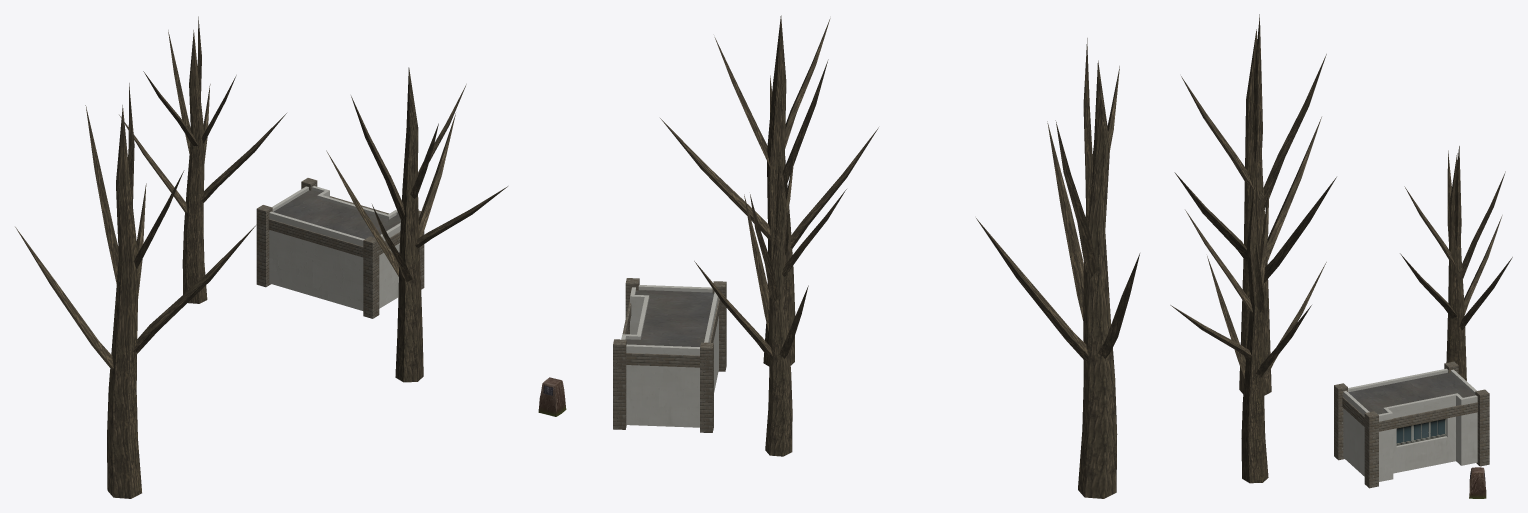
File: fbx_school01_gate.FBX
3 renders of one model, left to right at view 1: azimuth 30°, elevation 25°; view 2: azimuth 150°, elevation 25°; view 3: azimuth 270°, elevation 25°, orthographic. The views are drawn at different scales.
Parts seen in each view (by area): view 1: fbx_school01_gate; view 2: fbx_school01_gate; view 3: fbx_school01_gate.
Part boxes in pixels (bbox=[...]): fbx_school01_gate: bbox=[15, 16, 507, 498]; fbx_school01_gate: bbox=[538, 15, 1139, 498]; fbx_school01_gate: bbox=[1170, 14, 1512, 498].
Size of the model in its own units: 2812 by 2415 by 1985.
